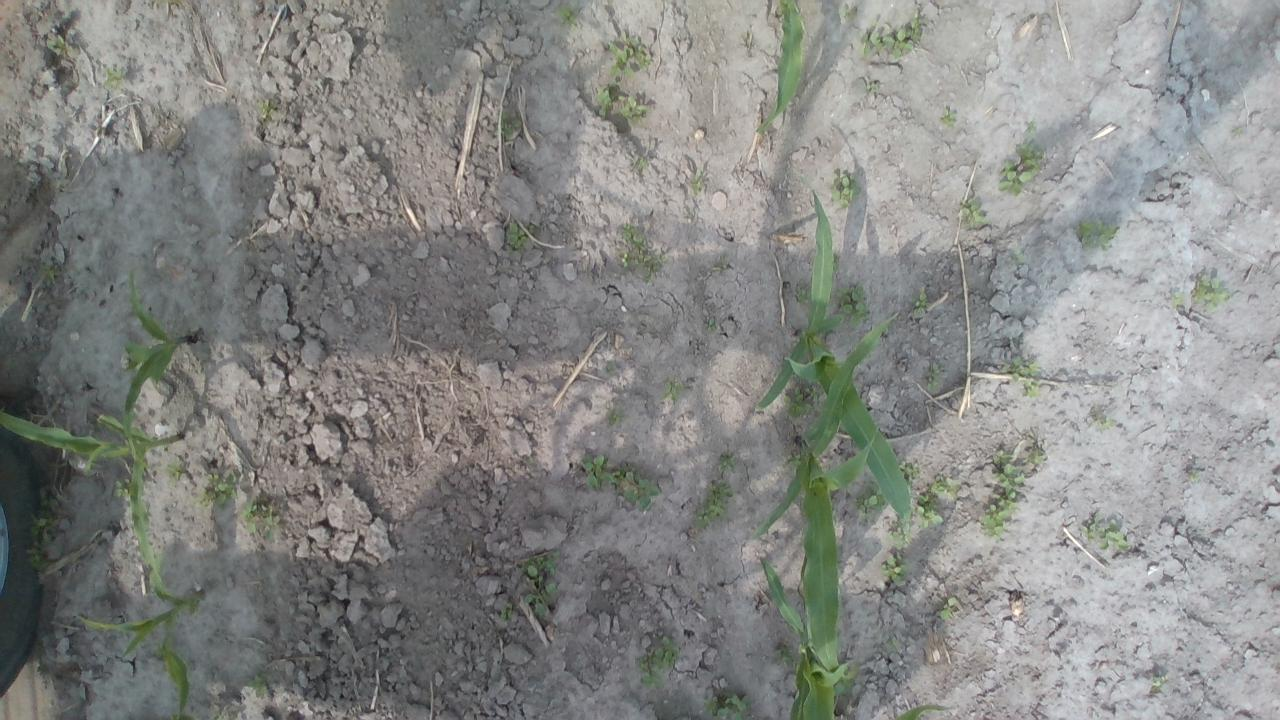Maize: (751, 190, 909, 538), (752, 310, 909, 546), (1, 402, 188, 572), (757, 458, 855, 720), (74, 565, 217, 720), (121, 276, 202, 415), (754, 3, 810, 138), (884, 702, 956, 720)
Weeds: (969, 438, 1053, 536), (688, 454, 736, 528), (854, 14, 928, 59), (992, 140, 1047, 198), (522, 548, 562, 616), (916, 470, 960, 531), (636, 637, 684, 688), (605, 30, 651, 78), (612, 470, 662, 512), (617, 224, 660, 272), (1002, 348, 1040, 400), (22, 508, 49, 580), (196, 466, 236, 512), (1087, 514, 1133, 554), (838, 280, 872, 328), (872, 548, 916, 585), (579, 446, 614, 490), (956, 192, 992, 234), (1192, 274, 1232, 310), (852, 488, 889, 526), (701, 690, 750, 718), (1072, 222, 1122, 248), (242, 499, 276, 536), (585, 86, 622, 120), (788, 378, 819, 418), (892, 458, 924, 492), (890, 514, 920, 550), (930, 599, 971, 625), (834, 166, 860, 206), (500, 217, 532, 249), (616, 98, 646, 130), (552, 2, 584, 27), (922, 361, 942, 396), (252, 102, 280, 123), (102, 66, 126, 90), (915, 290, 935, 318), (1091, 413, 1119, 433), (662, 376, 682, 402), (696, 172, 714, 195), (634, 148, 654, 168), (242, 674, 262, 694), (704, 309, 716, 340), (48, 32, 66, 52), (608, 409, 625, 430), (940, 111, 956, 129), (863, 80, 881, 94)
